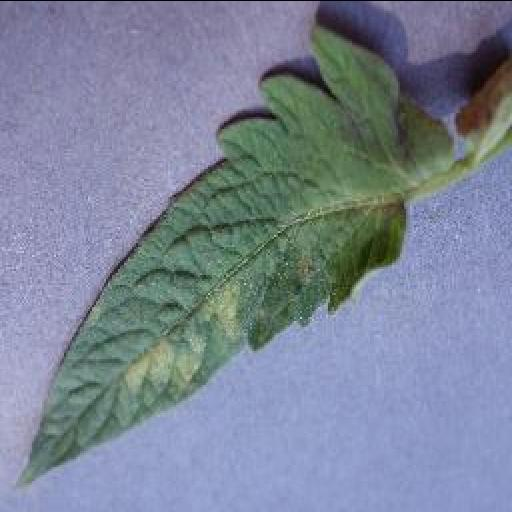disease_tomato: (14, 22, 450, 486)
